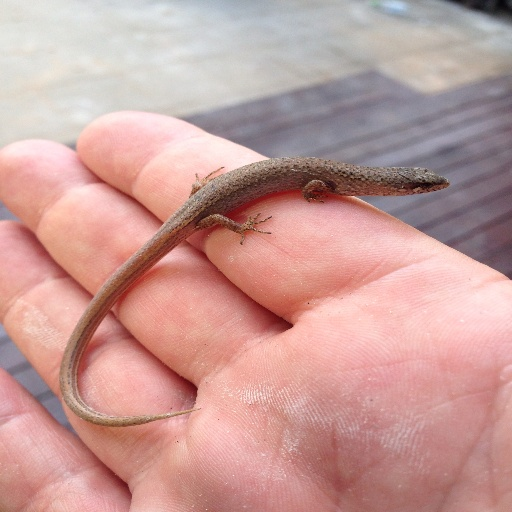hand: (48, 91, 508, 485)
